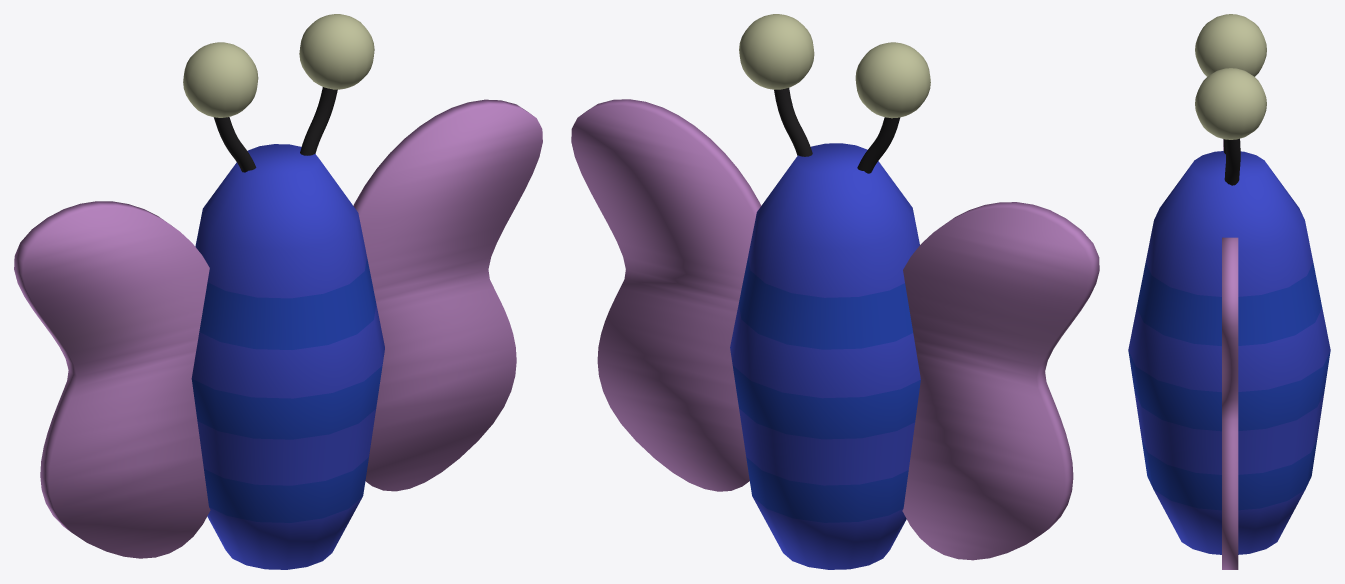
Rendered from btfly.glb.
The picture shows the model from 3 angles, left to right: view 1: azimuth 30°, elevation 25°; view 2: azimuth 150°, elevation 25°; view 3: azimuth 270°, elevation 25°; orthographic projection. The views are drawn at different scales.
Visible parts, largest first — view 1: btfly, wing1, wing2, ball2, ball1, tenta2, tenta1; view 2: btfly, wing1, wing2, ball1, ball2, tenta2, tenta1; view 3: btfly, wing2, ball2, ball1, tenta2.
Part boxes in pixels (bbox=[...]): btfly: bbox=[191, 144, 384, 569]; wing1: bbox=[14, 201, 210, 558]; wing2: bbox=[353, 99, 542, 491]; ball2: bbox=[299, 14, 374, 89]; ball1: bbox=[183, 42, 258, 117]; tenta2: bbox=[300, 87, 337, 155]; tenta1: bbox=[213, 117, 256, 172]; btfly: bbox=[730, 143, 920, 569]; wing1: bbox=[902, 202, 1099, 560]; wing2: bbox=[571, 99, 761, 491]; ball1: bbox=[855, 42, 930, 118]; ball2: bbox=[739, 14, 814, 89]; tenta2: bbox=[774, 88, 812, 156]; tenta1: bbox=[857, 117, 900, 173]; btfly: bbox=[1128, 151, 1330, 554]; wing2: bbox=[1222, 237, 1238, 569]; ball2: bbox=[1195, 68, 1266, 139]; ball1: bbox=[1195, 14, 1266, 76]; tenta2: bbox=[1224, 138, 1240, 185].
Size of the model in its own units: 0.4339 by 0.411 by 0.154.
